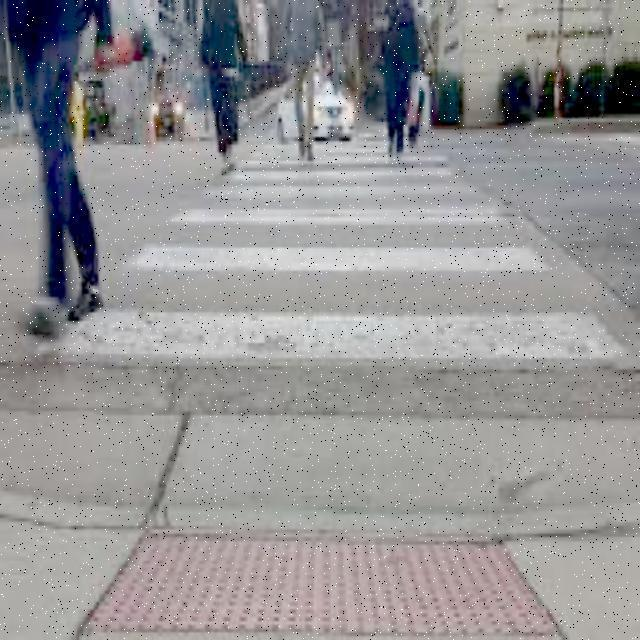Pedestrian crosswalk: (19, 99, 618, 385)
